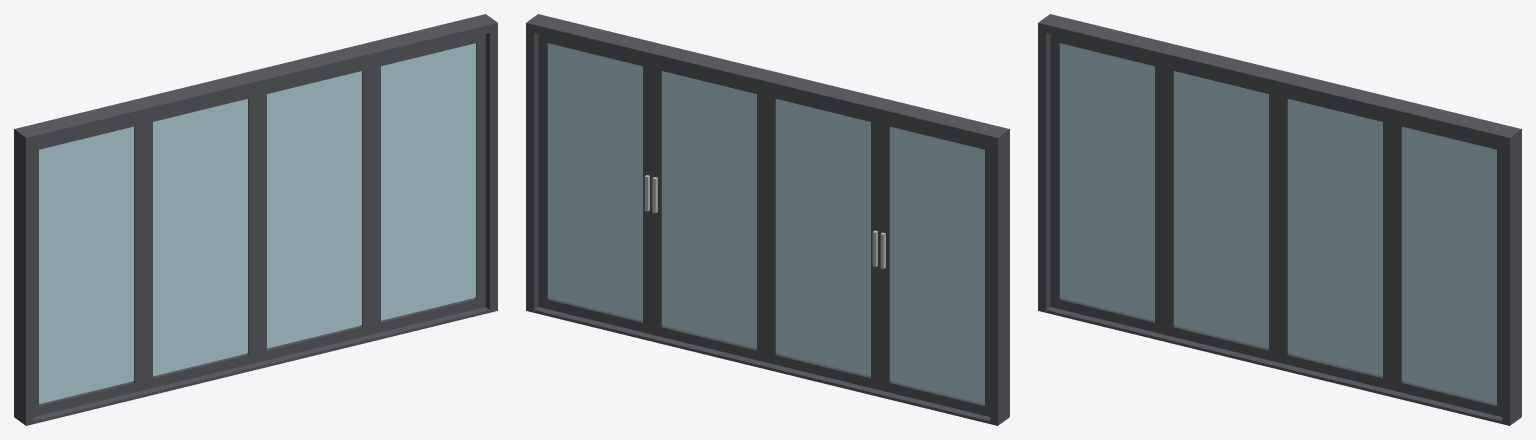
The model's file is opening.door.bifold_3600.glb.
The picture shows the model from 3 angles, left to right: view 1: azimuth 30°, elevation 25°; view 2: azimuth 150°, elevation 25°; view 3: azimuth 330°, elevation 25°; orthographic projection.
Parts seen in each view (by area): view 1: glazing__glass, leaf__plastic_grey, frame__plastic_grey; view 2: glazing__glass, leaf__plastic_grey, frame__plastic_grey, ironmongery__steel_stainless; view 3: glazing__glass, leaf__plastic_grey, frame__plastic_grey.
Boxes of the visible parts, left/top/right/bottom form: glazing__glass: left=39, top=43, right=475, bottom=403; leaf__plastic_grey: left=34, top=34, right=485, bottom=416; frame__plastic_grey: left=14, top=14, right=497, bottom=425; glazing__glass: left=548, top=43, right=984, bottom=403; leaf__plastic_grey: left=538, top=34, right=989, bottom=416; frame__plastic_grey: left=526, top=14, right=1009, bottom=425; ironmongery__steel_stainless: left=644, top=175, right=885, bottom=268; glazing__glass: left=1060, top=43, right=1496, bottom=403; leaf__plastic_grey: left=1050, top=34, right=1501, bottom=416; frame__plastic_grey: left=1038, top=14, right=1521, bottom=425.
Bounding box in the file's own units: 3.6 × 2.1 × 0.16.
